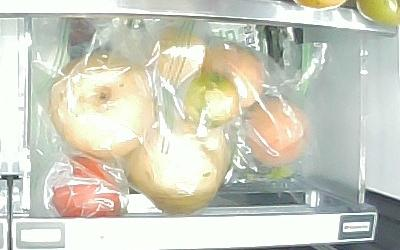peach_vinyl: (236, 97, 311, 165), (199, 41, 266, 109)
pear_vinyl: (50, 53, 154, 160), (125, 118, 231, 217)
tangerine_vinyl: (183, 72, 239, 129)
tomato_vinyl: (47, 155, 122, 218)
